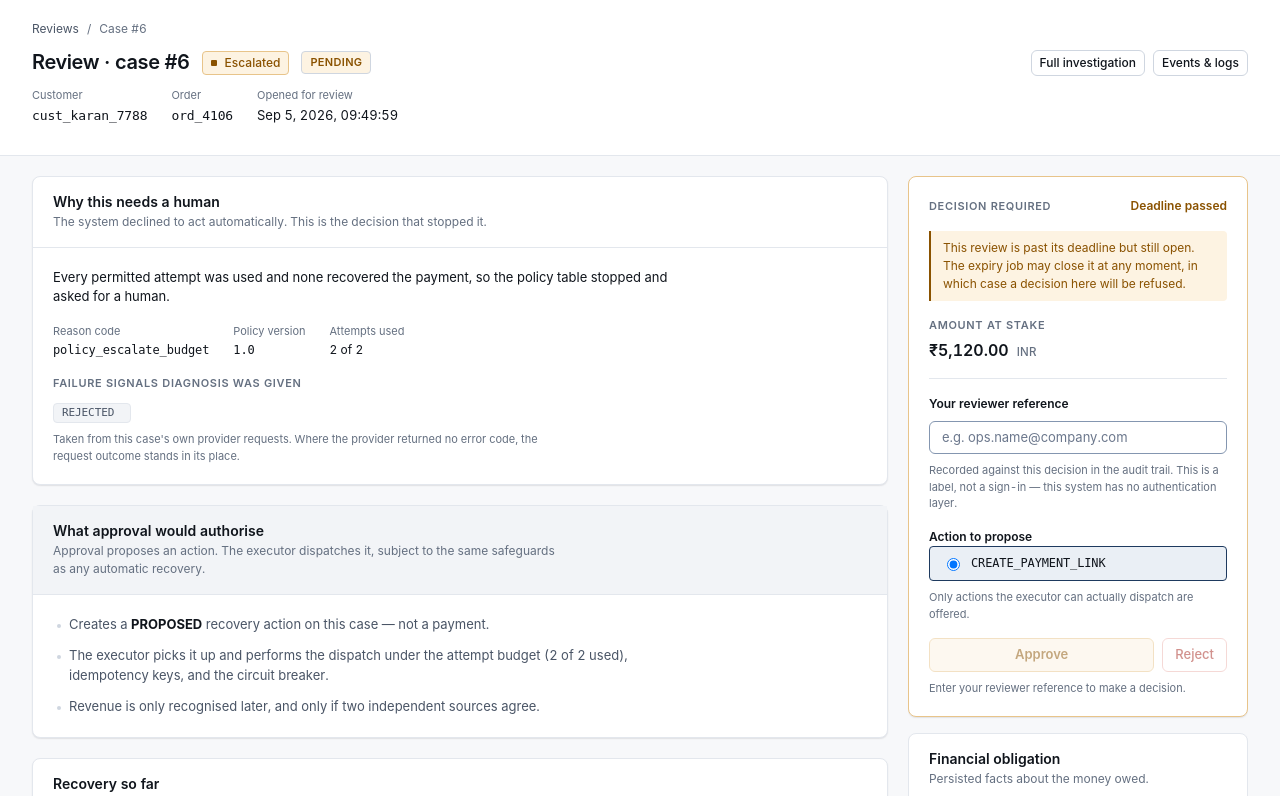
Test: review workspace › warns when the deadline has lapsed but still allows a decision
Expected: the text "Deadline passed" is shown, [1130,197,1227,215]
Type "ops@x.com" into the field labelled "Your reviewer reference" at (1078, 437), box [929,420,1227,454]
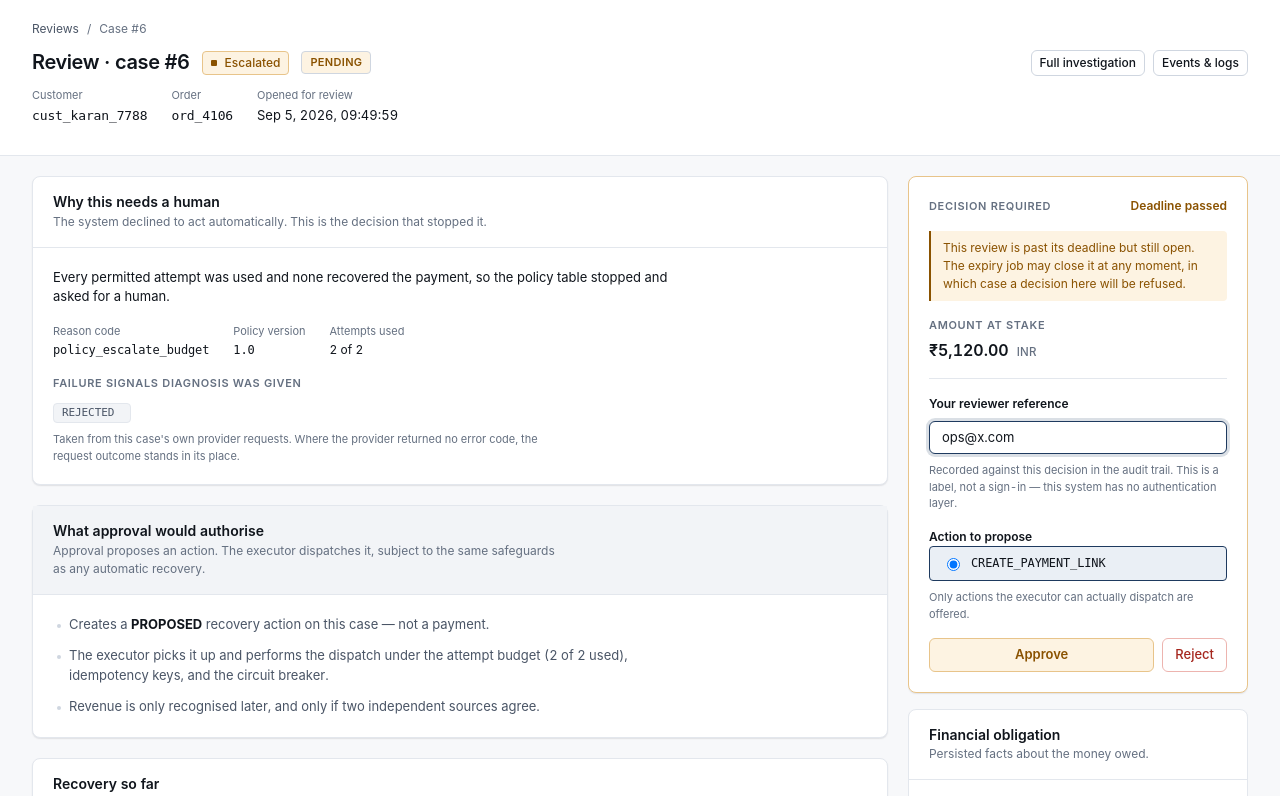
Expected: the text "may close it at any moment" is shown, [943,240,1198,291]
Expected: the button "Approve" is enabled, [929,638,1154,672]
